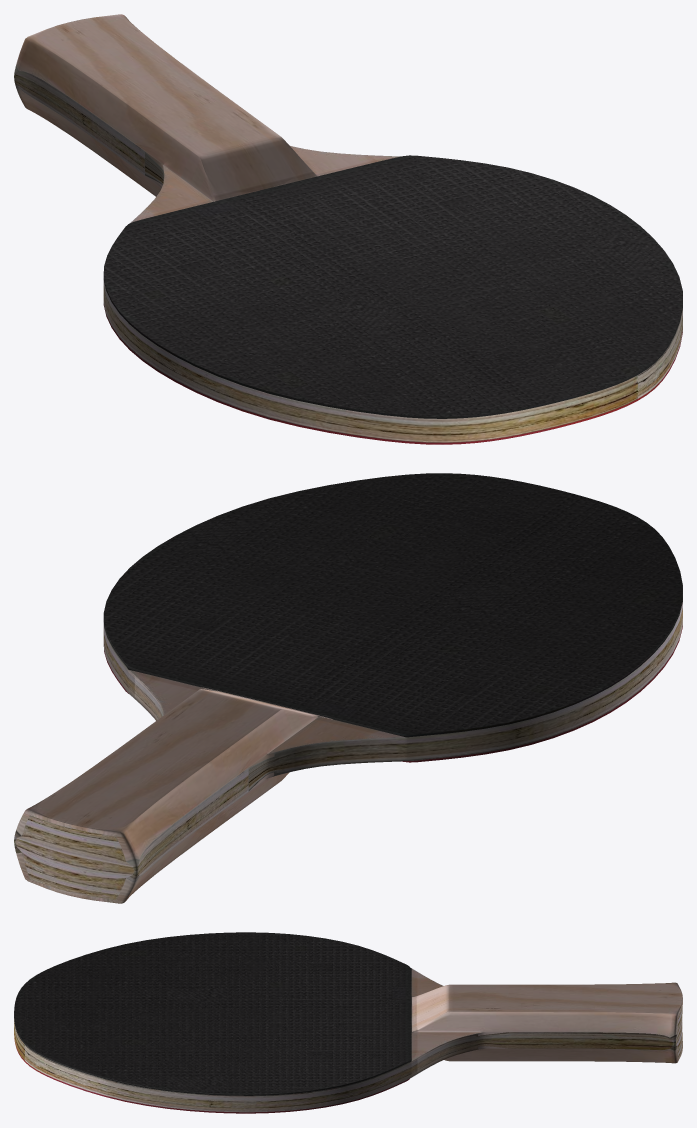
The model's file is ping_pong.obj.
The picture shows the model from 3 angles, top to bottom: view 1: azimuth 30°, elevation 25°; view 2: azimuth 150°, elevation 25°; view 3: azimuth 270°, elevation 25°; orthographic projection. The views are drawn at different scales.
Visible parts, largest first — view 1: 10519_pingpong_paddle; view 2: 10519_pingpong_paddle; view 3: 10519_pingpong_paddle.
Part boxes in pixels (x1,y1,x2,y2): 10519_pingpong_paddle: (14,14,682,444); 10519_pingpong_paddle: (14,473,682,903); 10519_pingpong_paddle: (14,932,682,1113).
Bounding box in the file's own units: 14.94 × 2.11 × 26.04.
Materials: 1 (1 with a texture image).
